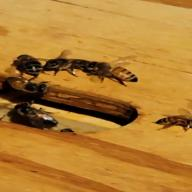Bee: (80, 60, 142, 91)
